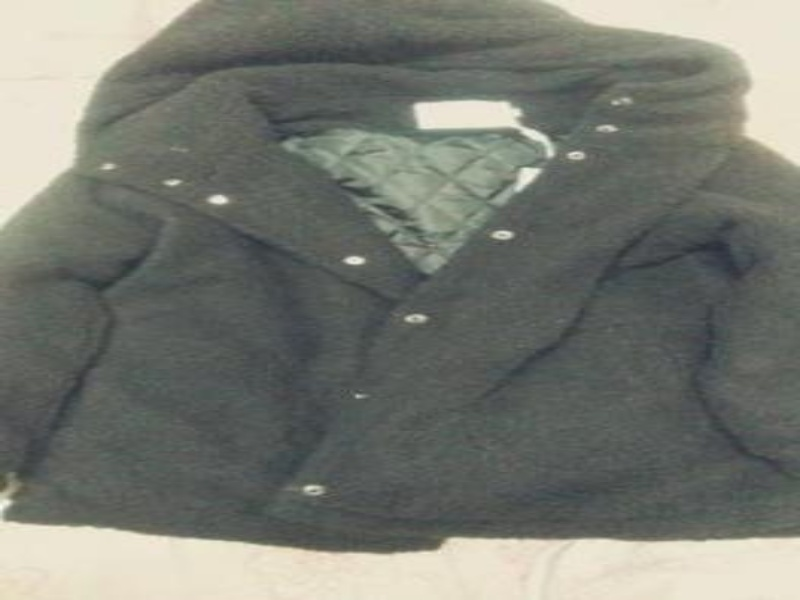long_sleeved_outwear: (0, 0, 794, 556)
